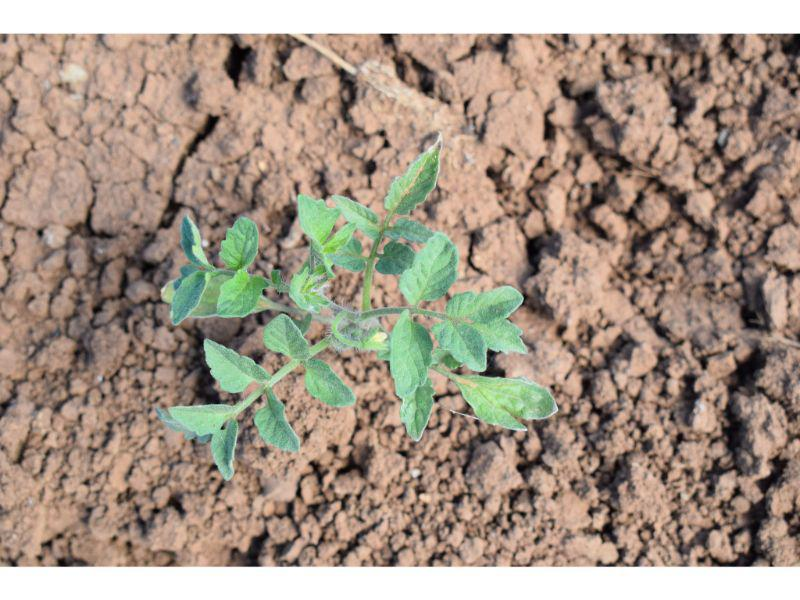tomato: (158, 132, 558, 479)
